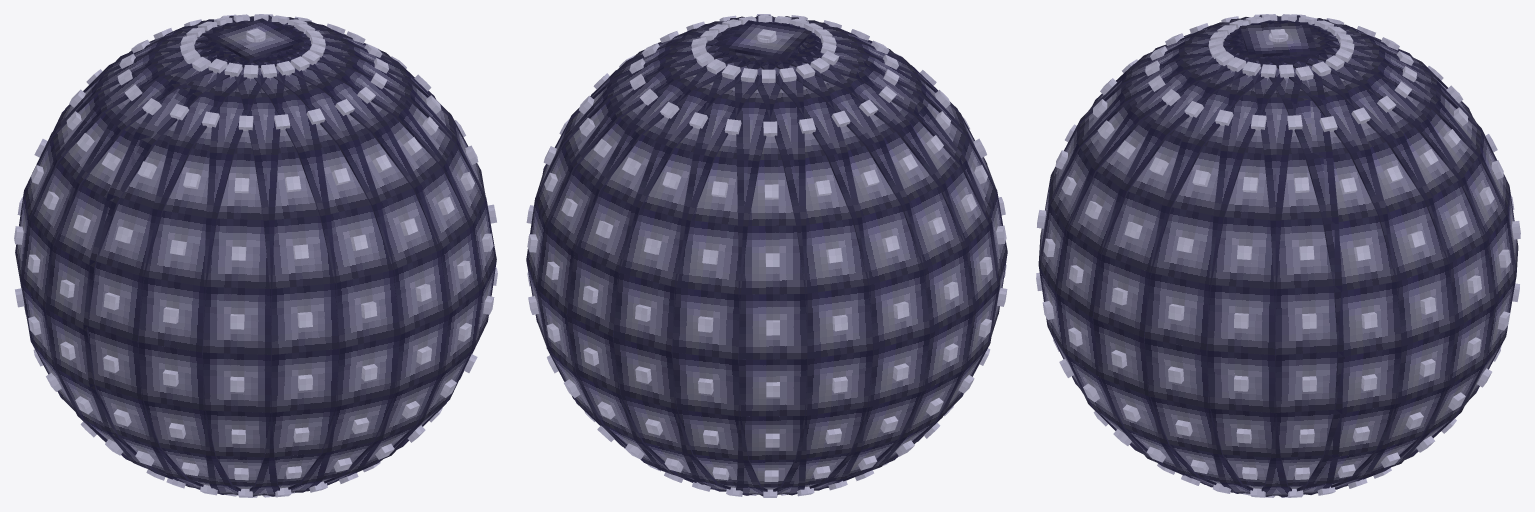
File: trap-6_2.glb
The picture shows the model from 3 angles, left to right: view 1: azimuth 30°, elevation 25°; view 2: azimuth 150°, elevation 25°; view 3: azimuth 270°, elevation 25°; orthographic projection.
Visible parts, largest first — view 1: 2$$(1)-Local; view 2: 2$$(1)-Local; view 3: 2$$(1)-Local.
Boxes of the visible parts, box(x1,y1,x2,y2) form: 2$$(1)-Local: box(14, 14, 497, 497); 2$$(1)-Local: box(526, 14, 1007, 497); 2$$(1)-Local: box(1036, 14, 1520, 497).
Bounding box in the file's own units: 0.9964 × 1.02 × 1.
1 material, 1 textured.
